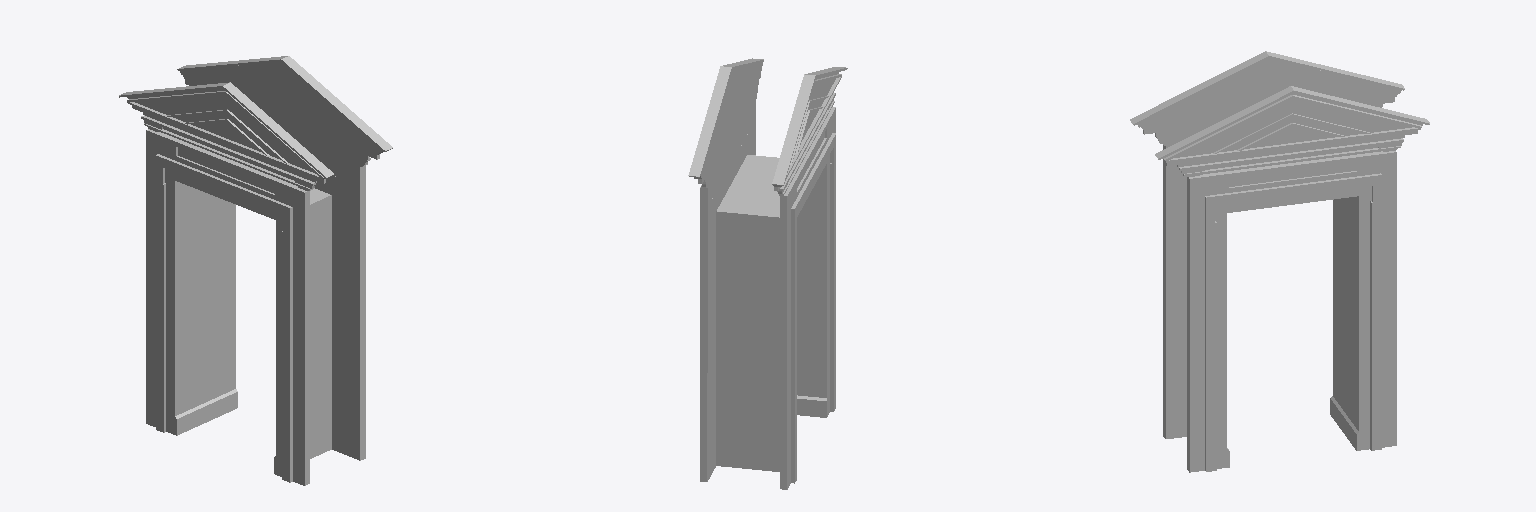
Rendered from Door1.obj.
The picture shows the model from 3 angles: view 1: azimuth 30°, elevation 25°; view 2: azimuth 150°, elevation 25°; view 3: azimuth 270°, elevation 25°; orthographic projection.
Parts seen in each view (by area): view 1: pasted__pasted__Mesh1 pasted__pasted__portal009 pasted__pasted__, pasted__pasted__Mesh1 pasted__pasted__Object002 pasted__pasted__; view 2: pasted__pasted__Mesh1 pasted__pasted__portal009 pasted__pasted__, pasted__pasted__Mesh1 pasted__pasted__Object002 pasted__pasted__; view 3: pasted__pasted__Mesh1 pasted__pasted__Object002 pasted__pasted__, pasted__pasted__Mesh1 pasted__pasted__portal009 pasted__pasted__.
Part boxes in pixels (left/top/right/bottom): pasted__pasted__Mesh1 pasted__pasted__portal009 pasted__pasted__: left=119, top=82, right=334, bottom=485; pasted__pasted__Mesh1 pasted__pasted__Object002 pasted__pasted__: left=177, top=56, right=392, bottom=460; pasted__pasted__Mesh1 pasted__pasted__portal009 pasted__pasted__: left=716, top=67, right=847, bottom=489; pasted__pasted__Mesh1 pasted__pasted__Object002 pasted__pasted__: left=688, top=58, right=763, bottom=481; pasted__pasted__Mesh1 pasted__pasted__Object002 pasted__pasted__: left=1155, top=86, right=1429, bottom=472; pasted__pasted__Mesh1 pasted__pasted__portal009 pasted__pasted__: left=1130, top=51, right=1404, bottom=446.
Bounding box in the file's own units: 4.09 × 9.45 × 6.96.